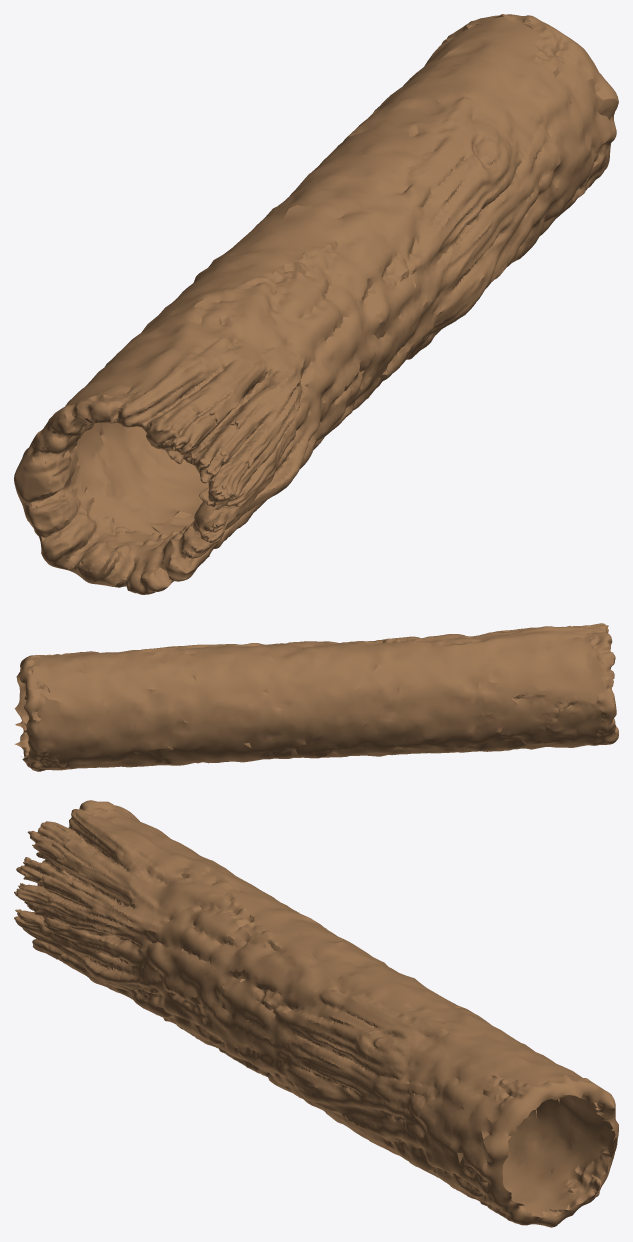
The model's file is hollow_bark.fbx.
The picture shows the model from 3 angles, top to bottom: view 1: azimuth 30°, elevation 25°; view 2: azimuth 150°, elevation 25°; view 3: azimuth 270°, elevation 25°; orthographic projection. The views are drawn at different scales.
Parts seen in each view (by area): view 1: log; view 2: log; view 3: log.
Part boxes in pixels (left/top/right/bottom): log: left=14, top=14, right=618, bottom=594; log: left=14, top=623, right=618, bottom=771; log: left=14, top=800, right=618, bottom=1227.
Bounding box in the file's own units: 758 × 172 × 614.
